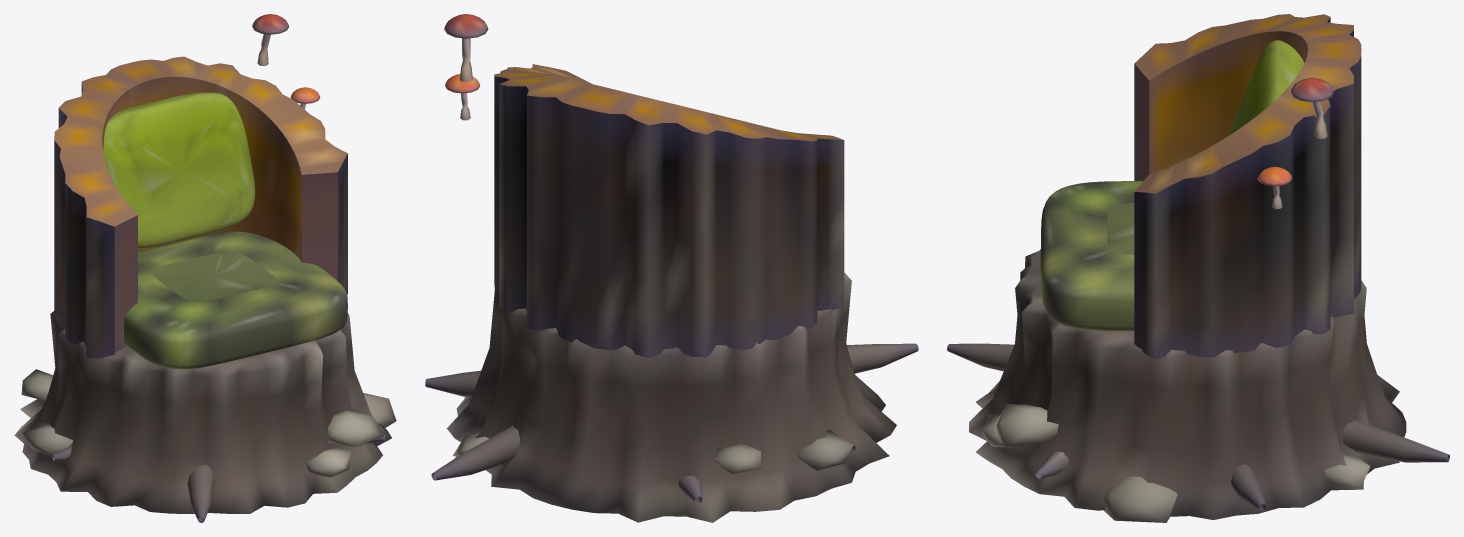
Rendered from kutuk_koltuk.glb.
The picture shows the model from 3 angles, left to right: view 1: azimuth 30°, elevation 25°; view 2: azimuth 150°, elevation 25°; view 3: azimuth 270°, elevation 25°; orthographic projection. The views are drawn at different scales.
Visible parts, largest first — view 1: kutuk_koltuk_LOD0; view 2: kutuk_koltuk_LOD0; view 3: kutuk_koltuk_LOD0.
Part boxes in pixels (<box>): kutuk_koltuk_LOD0: <box>14,14,396,522</box>; kutuk_koltuk_LOD0: <box>425,14,918,522</box>; kutuk_koltuk_LOD0: <box>947,14,1449,522</box>.
Size of what is drawn, in the model's own units: 1.05 by 1.07 by 1.15.
